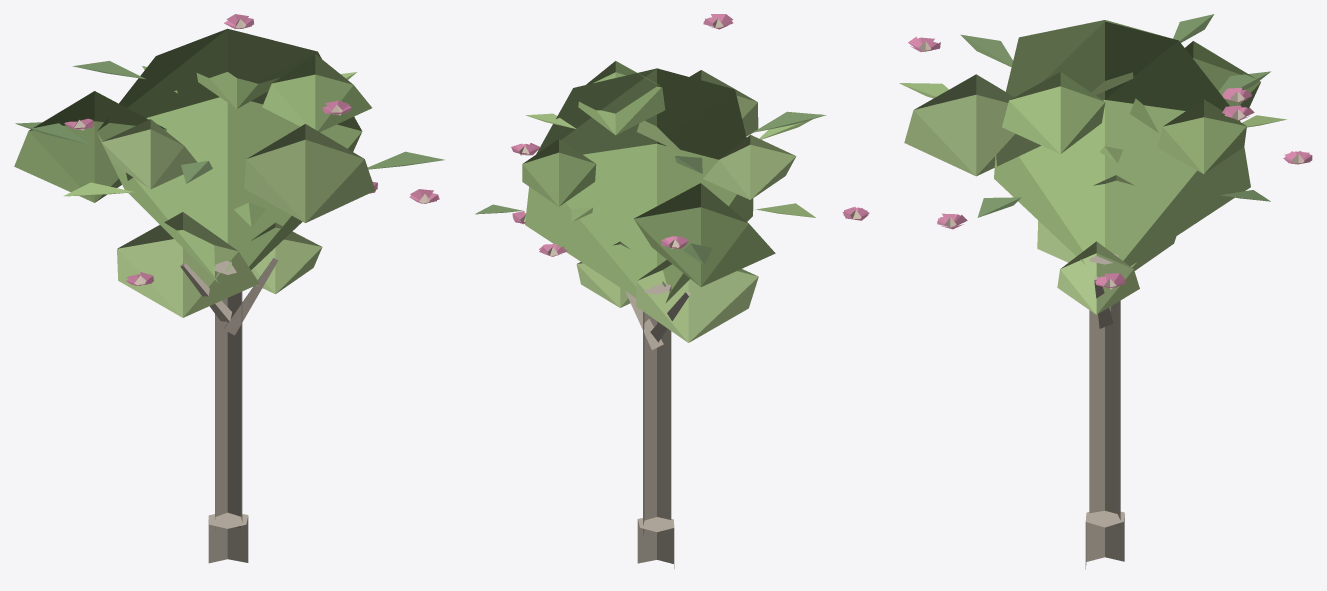
The model's file is shu.chuizhi@flowering__spring.glb.
The picture shows the model from 3 angles, left to right: view 1: azimuth 30°, elevation 25°; view 2: azimuth 150°, elevation 25°; view 3: azimuth 270°, elevation 25°; orthographic projection. The views are drawn at different scales.
Parts seen in each view (by area): view 1: shu.chuizhi@flowering__spring; view 2: shu.chuizhi@flowering__spring; view 3: shu.chuizhi@flowering__spring.
Part boxes in pixels (<box>): shu.chuizhi@flowering__spring: <box>14,14,444,563</box>; shu.chuizhi@flowering__spring: <box>475,14,869,568</box>; shu.chuizhi@flowering__spring: <box>899,14,1312,569</box>.
Bounding box in the file's own units: 6.6 × 10.27 × 7.05.
